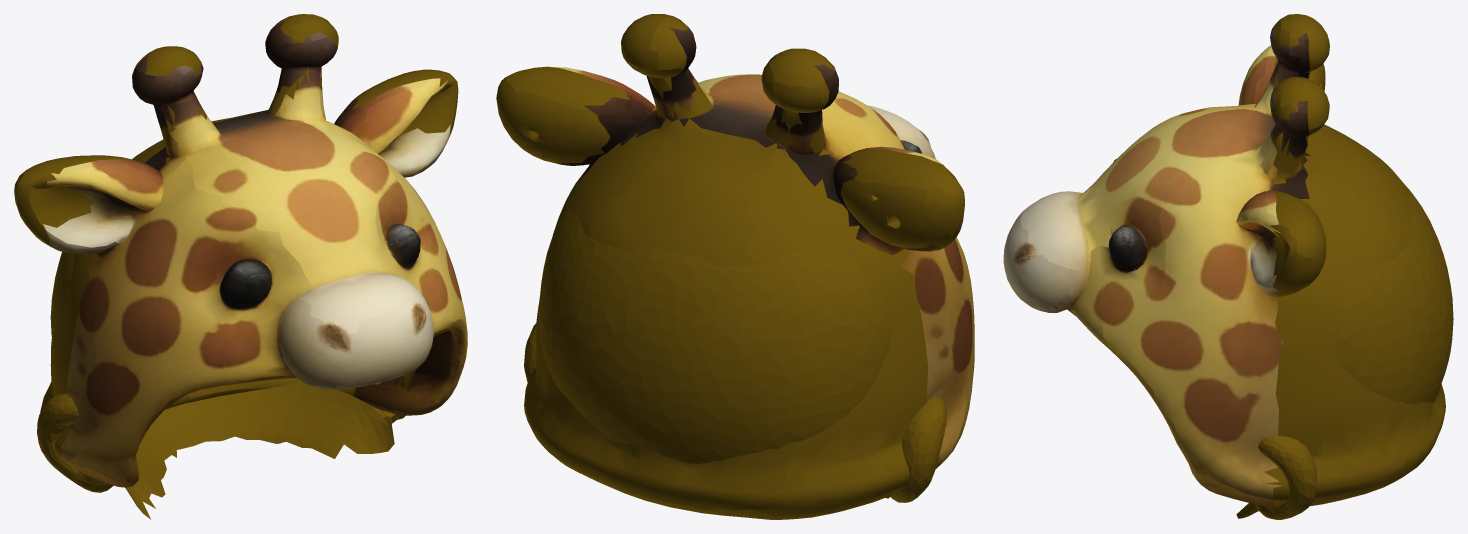
File: giraffe.glb
The picture shows the model from 3 angles, left to right: view 1: azimuth 30°, elevation 25°; view 2: azimuth 150°, elevation 25°; view 3: azimuth 270°, elevation 25°; orthographic projection. The views are drawn at different scales.
Visible parts, largest first — view 1: geometry_0, HoodAnatomicalLining; view 2: geometry_0, HoodAnatomicalLining; view 3: geometry_0, HoodAnatomicalLining.
Boxes of the visible parts, bbox=[...] form: geometry_0: bbox=[14, 14, 467, 487]; HoodAnatomicalLining: bbox=[37, 252, 415, 519]; geometry_0: bbox=[496, 14, 974, 519]; HoodAnatomicalLining: bbox=[524, 207, 946, 502]; geometry_0: bbox=[1003, 14, 1445, 506]; HoodAnatomicalLining: bbox=[1236, 185, 1453, 519].
Bounding box in the file's own units: 0.5824 × 0.5494 × 0.533.
Materials: 2 (1 with a texture image).
